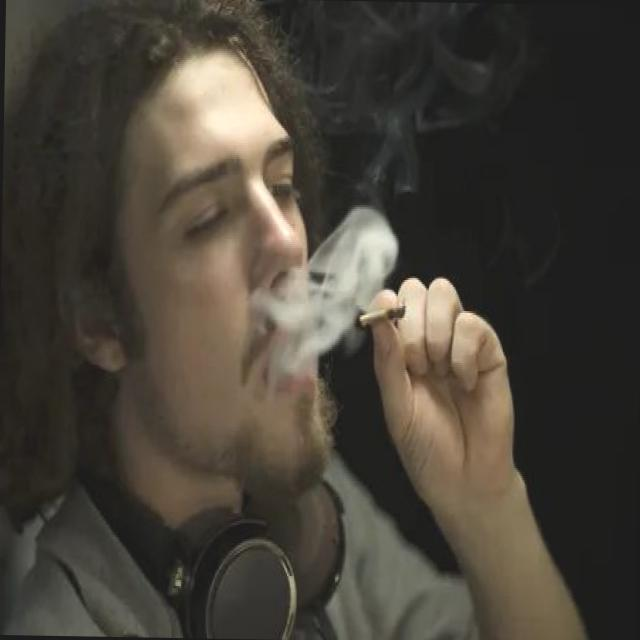cigarette: (346, 296, 404, 344)
